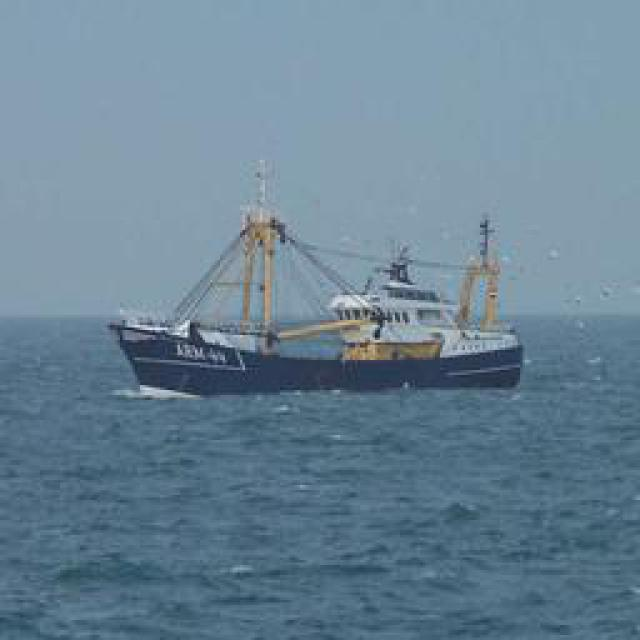Ship: (108, 162, 546, 402)
